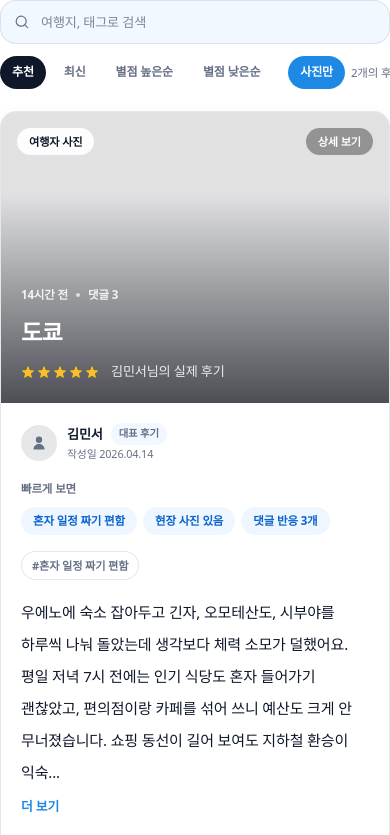
Scenario: CommunityExperience › keeps the search controls visible when no results match the search
Expected: the heading "도쿄" is shown, [21,316,62,348]
Type "없는검색어" into the search field with placeholder "여행지, 태그로 검색".
click(195, 22); type("없는검색어")  # box [0,0,389,44]
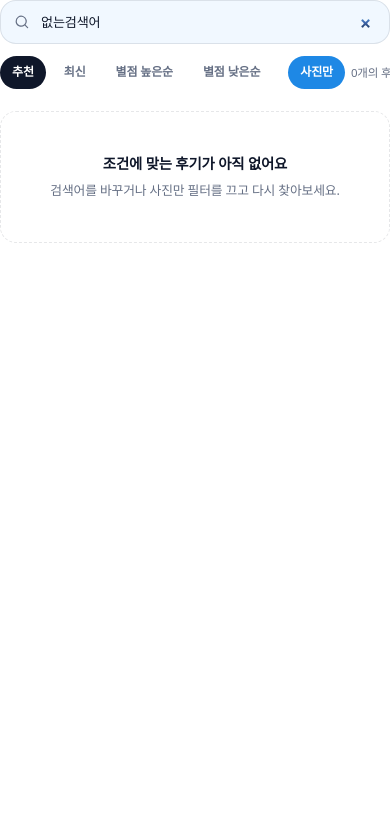
Expected: the button "사진만" is shown, [288,56,345,89]
Expected: the text "조건에 맞는 후기가 아직 없어요" is shown, [103,154,287,173]
